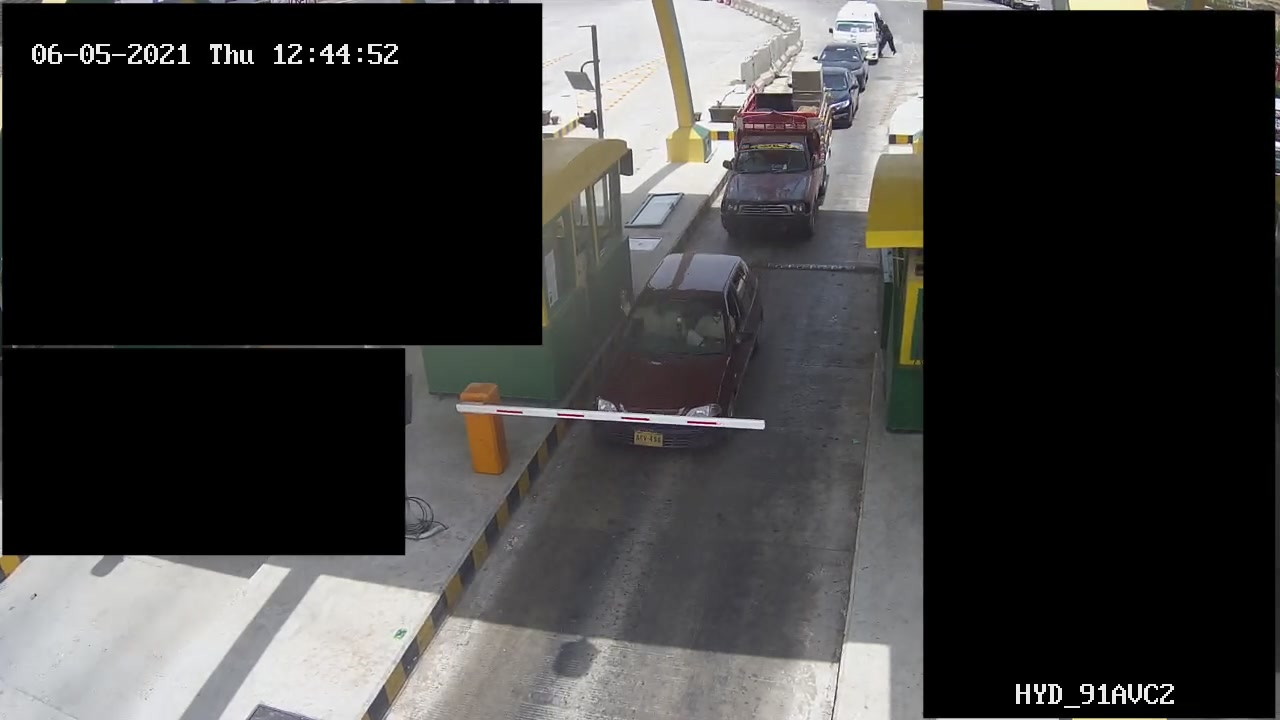F1: (592, 233, 766, 449), (717, 82, 843, 237)
